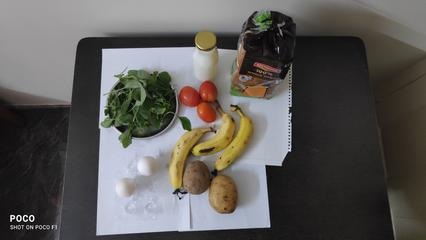banana: (201, 115, 256, 161), (166, 127, 194, 190)
bread: (237, 13, 297, 105)
eggs: (108, 154, 160, 204)
milk: (193, 27, 226, 80)
potato: (210, 175, 243, 216), (181, 161, 205, 194)
spinach: (115, 79, 171, 136)
tomato: (182, 85, 220, 121)
